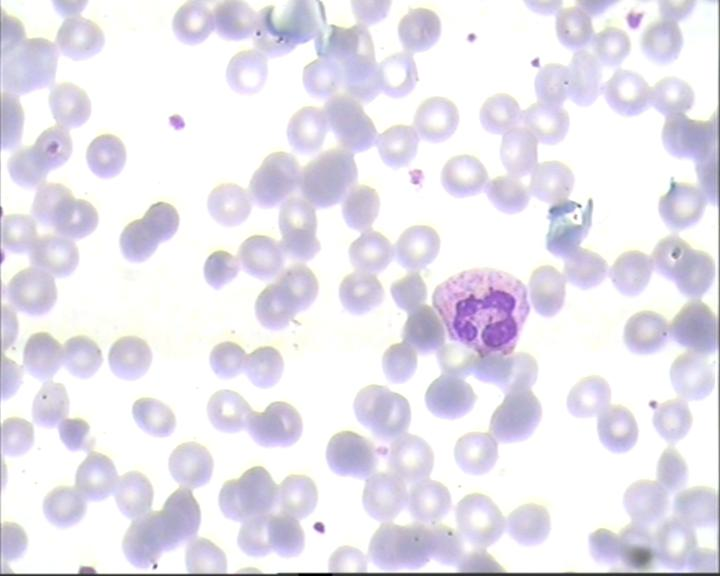neut: (429, 259, 532, 360)
